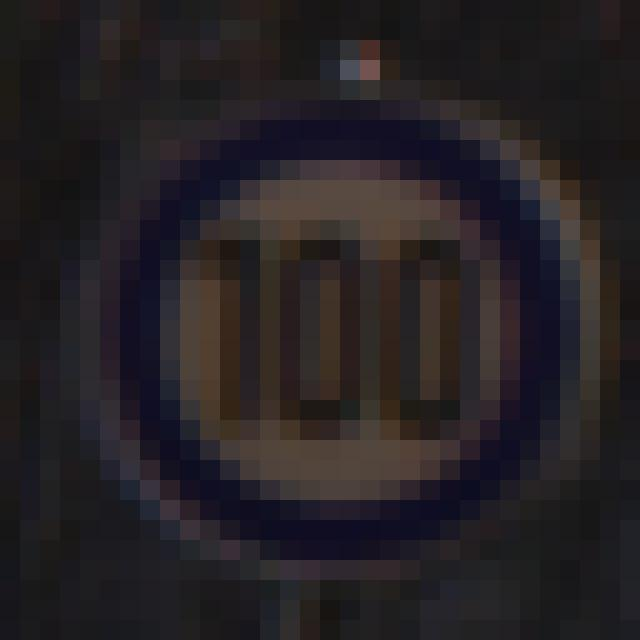SPEED LIMIT 100: (101, 103, 581, 579)
